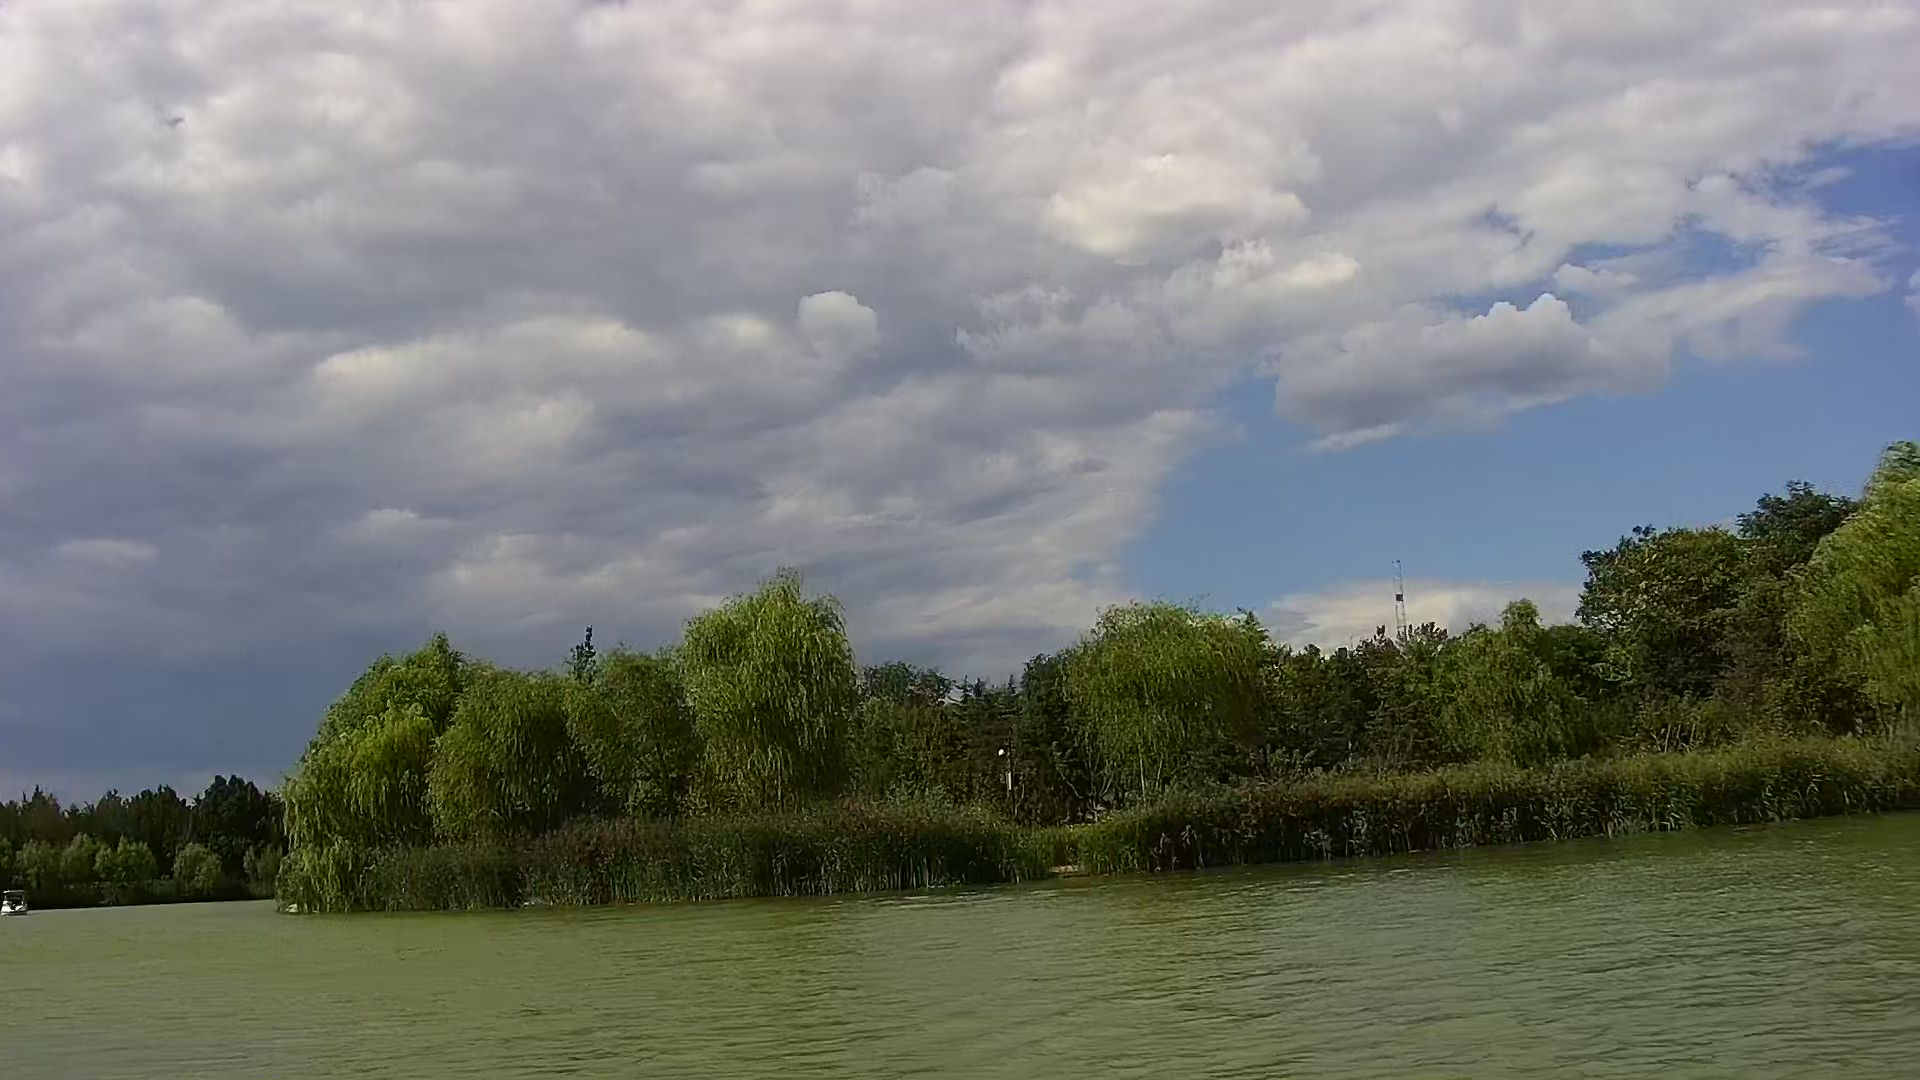boat: (1, 889, 32, 920)
